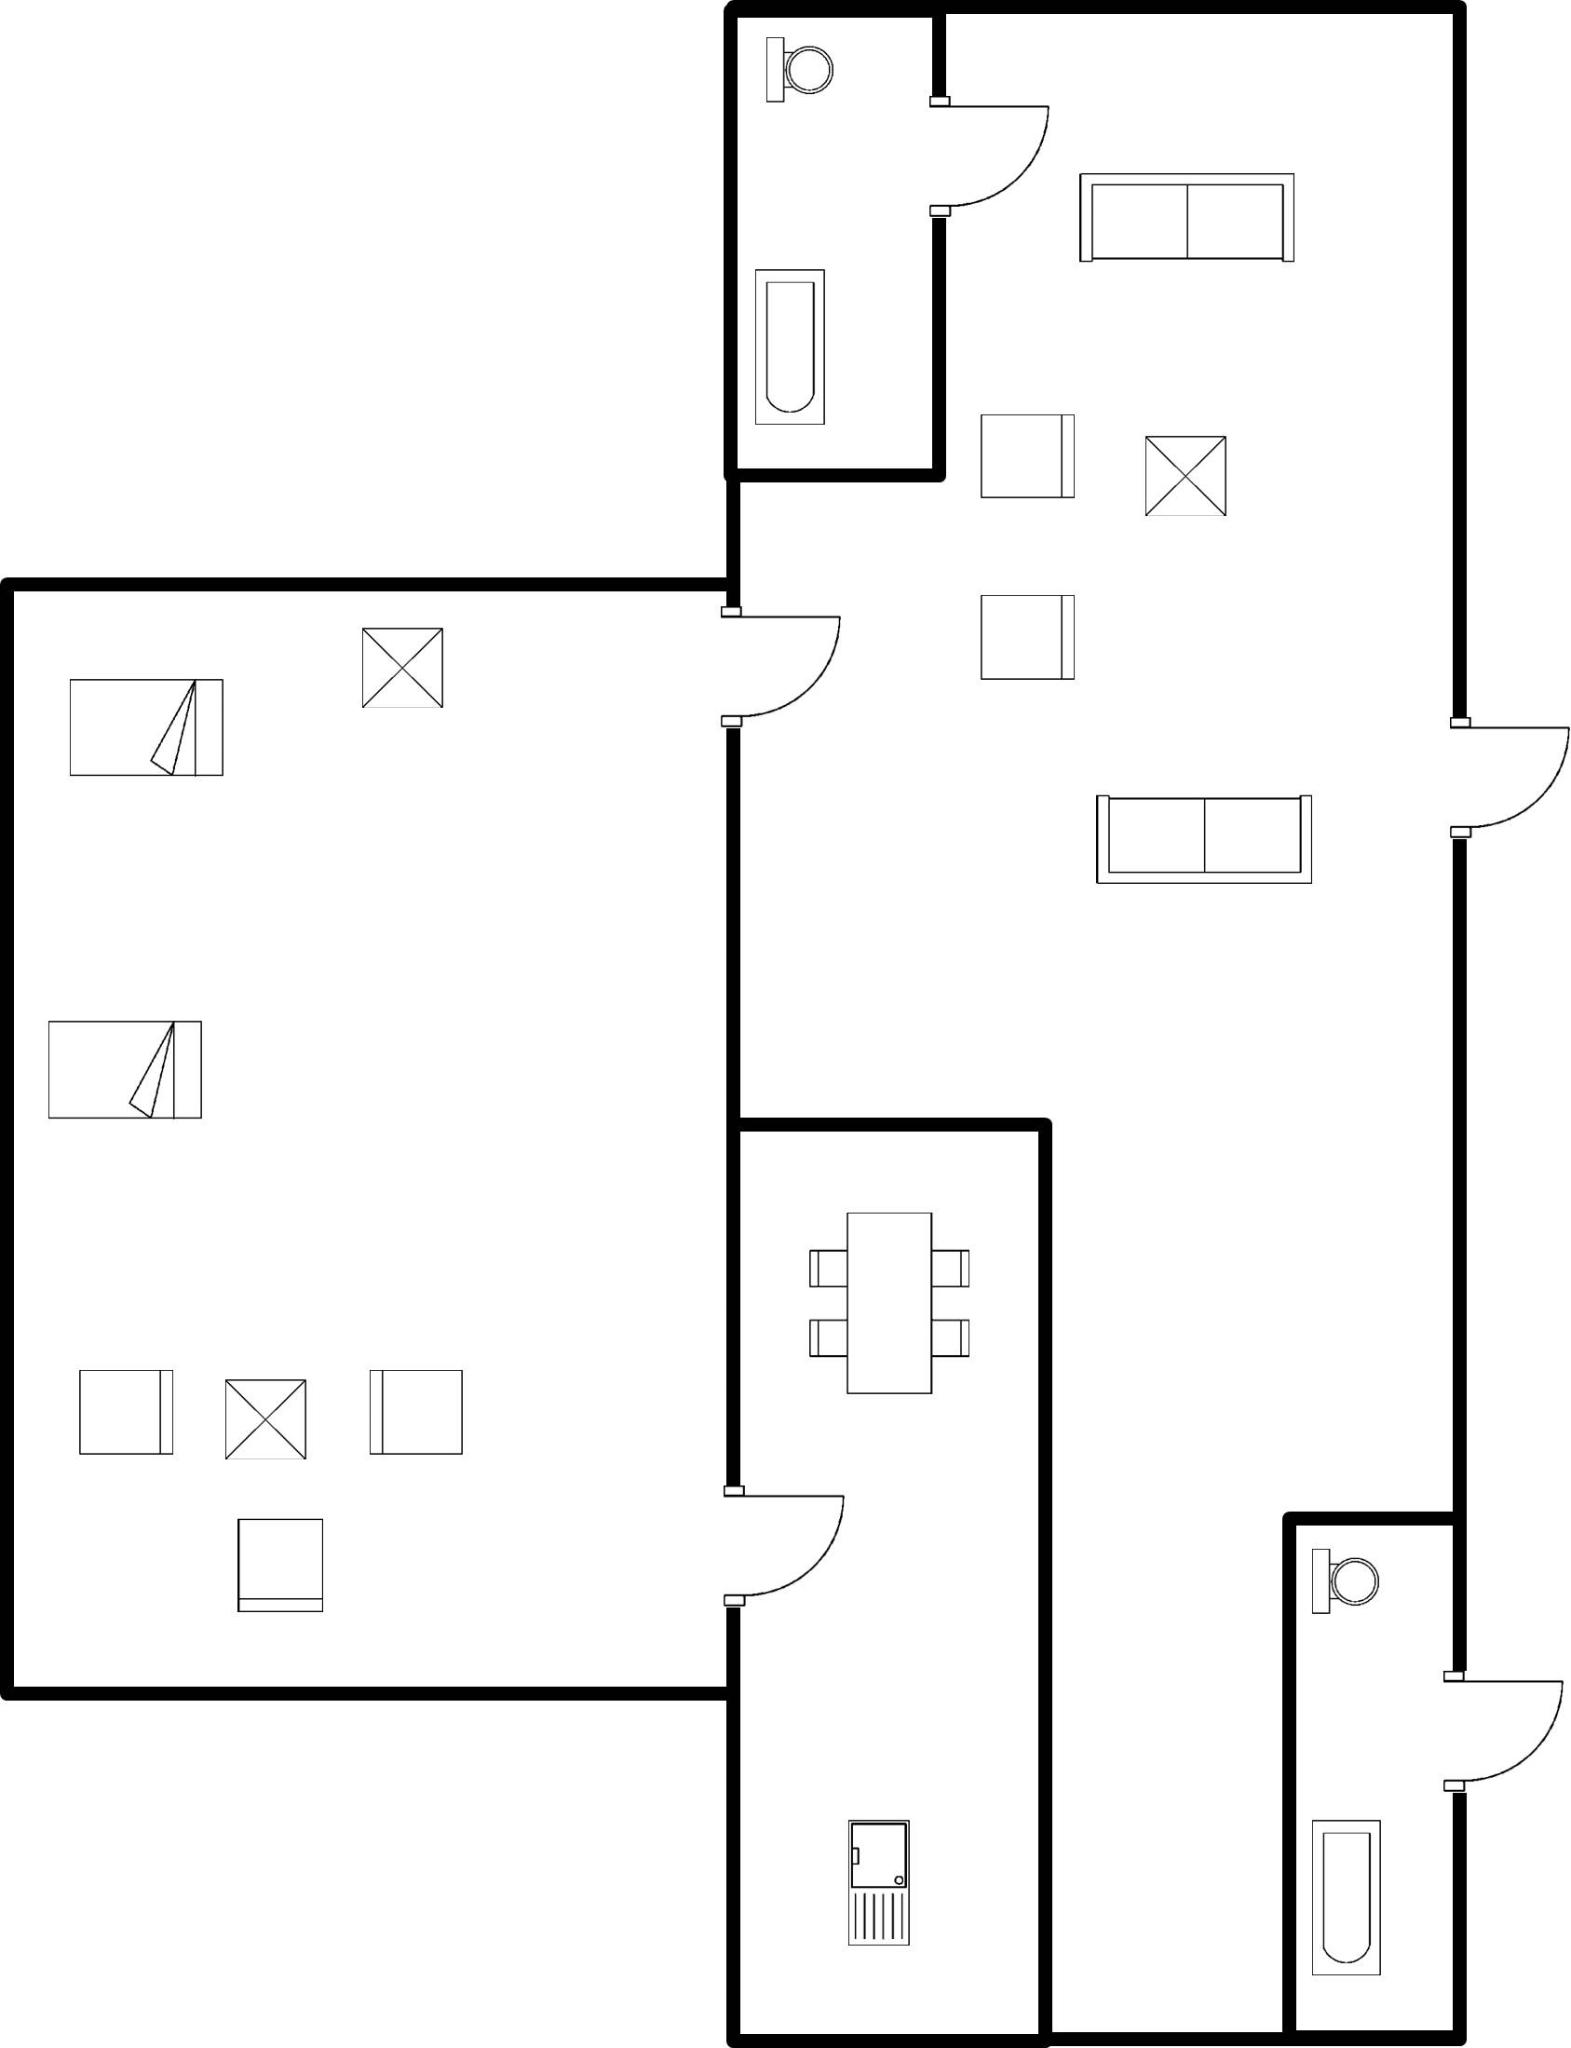bed: (61, 660, 229, 795), (38, 1008, 215, 1135)
dining_table: (794, 1195, 982, 1411)
sink: (832, 1804, 924, 1959)
sofa: (1058, 158, 1312, 276), (1081, 779, 1323, 901)
toilet: (751, 23, 845, 117), (1302, 1535, 1386, 1635)
tub: (1304, 1809, 1403, 1990), (744, 256, 842, 437)
